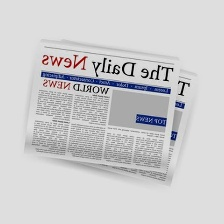news_paper: (29, 36, 181, 171), (50, 57, 202, 187)
